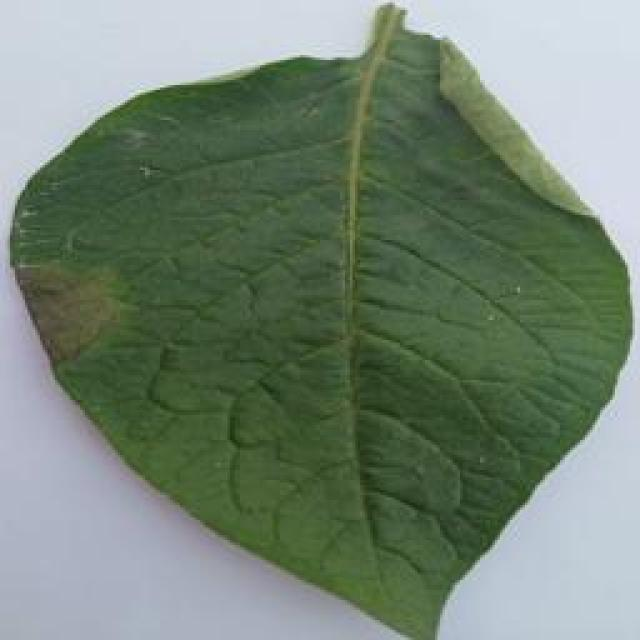Potato_Late_Blight: (11, 6, 619, 635)
